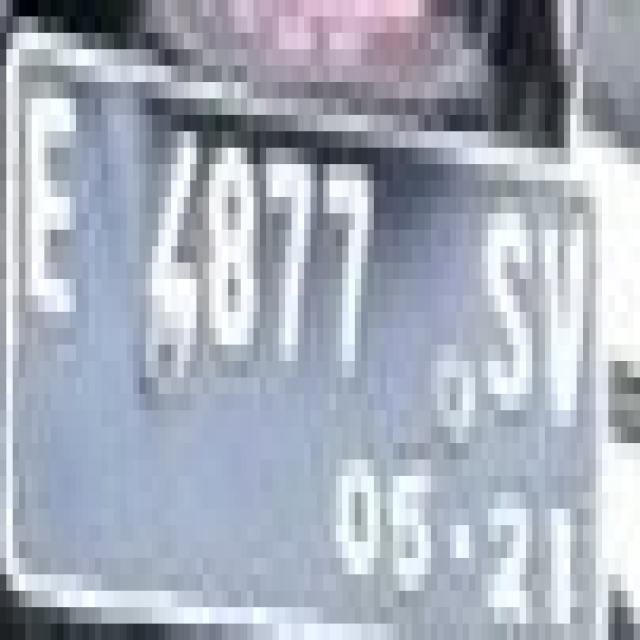plate: (0, 0, 615, 624)
